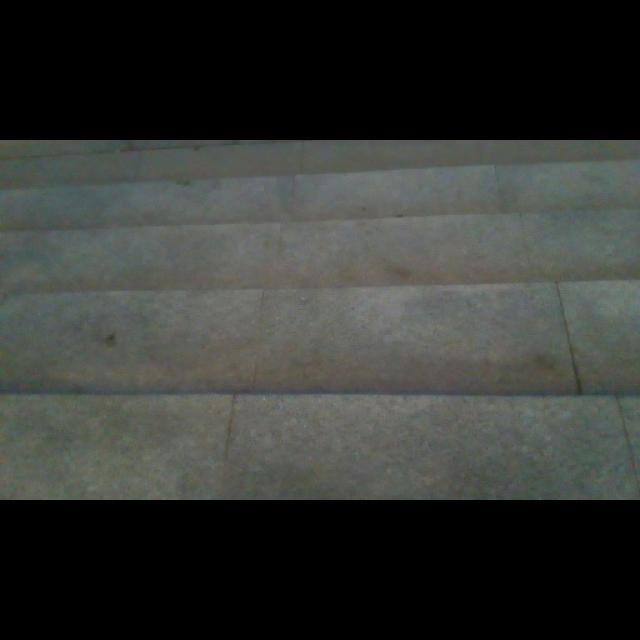Stairs: (0, 142, 639, 498)
